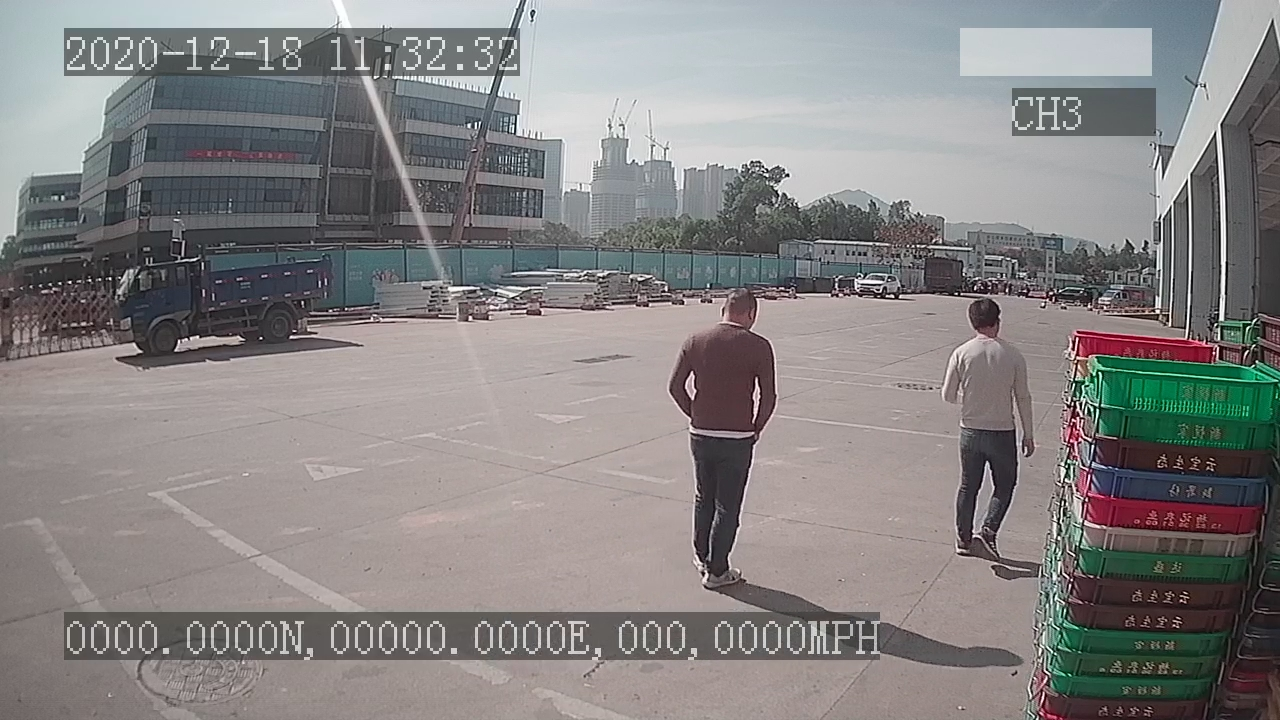person: (669, 287, 779, 589), (936, 293, 1038, 562)
